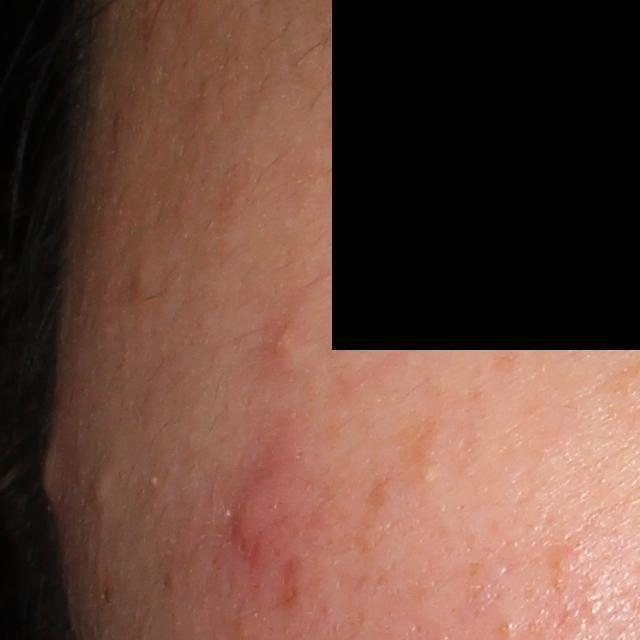comedo: (416, 467, 444, 486)
melasma: (391, 414, 440, 463)
